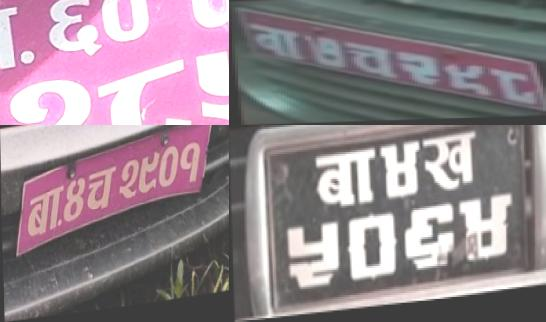0: (341, 209, 400, 292), (99, 0, 153, 57), (158, 147, 180, 193)
1: (179, 143, 203, 193)
2: (1, 77, 102, 125), (389, 48, 440, 88), (116, 160, 140, 208)
4: (454, 193, 517, 276), (376, 136, 423, 209), (63, 179, 87, 224)
5: (279, 216, 345, 301), (191, 44, 229, 125)
6: (398, 201, 460, 286), (35, 0, 101, 68)
7: (300, 31, 348, 72)
8: (93, 61, 193, 125), (486, 68, 540, 108)
9: (437, 63, 494, 99), (138, 155, 160, 203)
ba: (308, 142, 380, 220), (239, 21, 303, 63), (25, 184, 66, 238), (0, 4, 24, 86)
cha: (340, 36, 394, 81), (86, 167, 116, 217)
kha: (419, 128, 482, 200)
pa: (176, 0, 229, 45)
